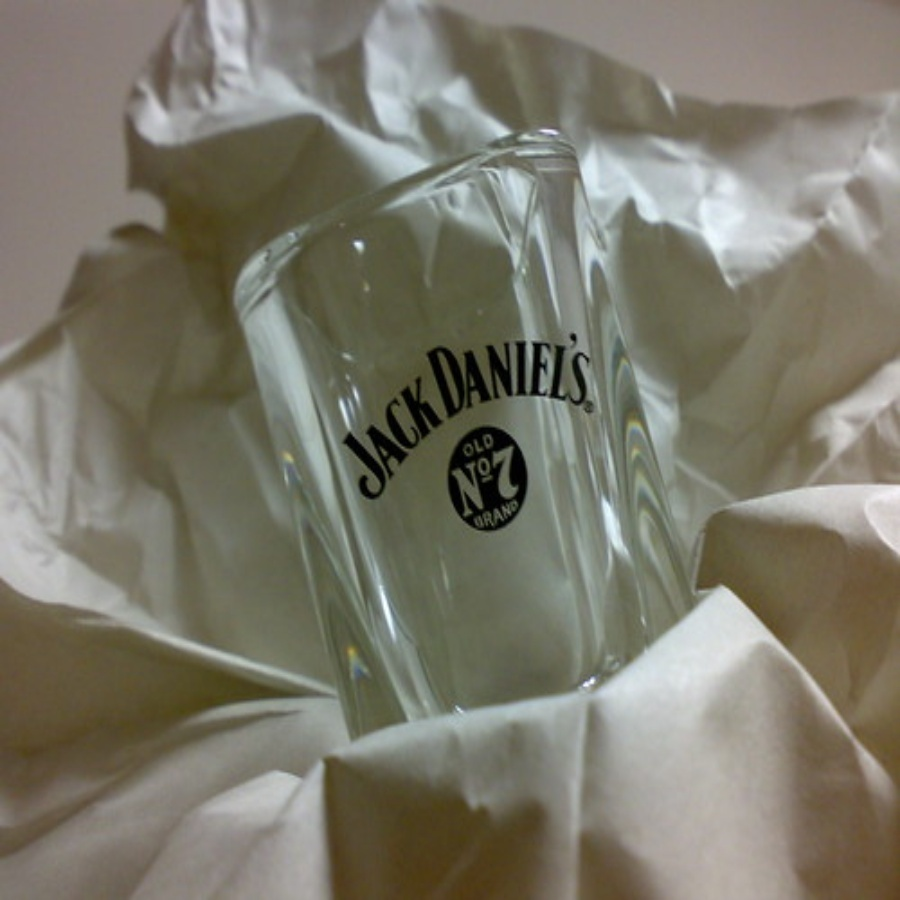whiskey: (272, 122, 657, 813)
